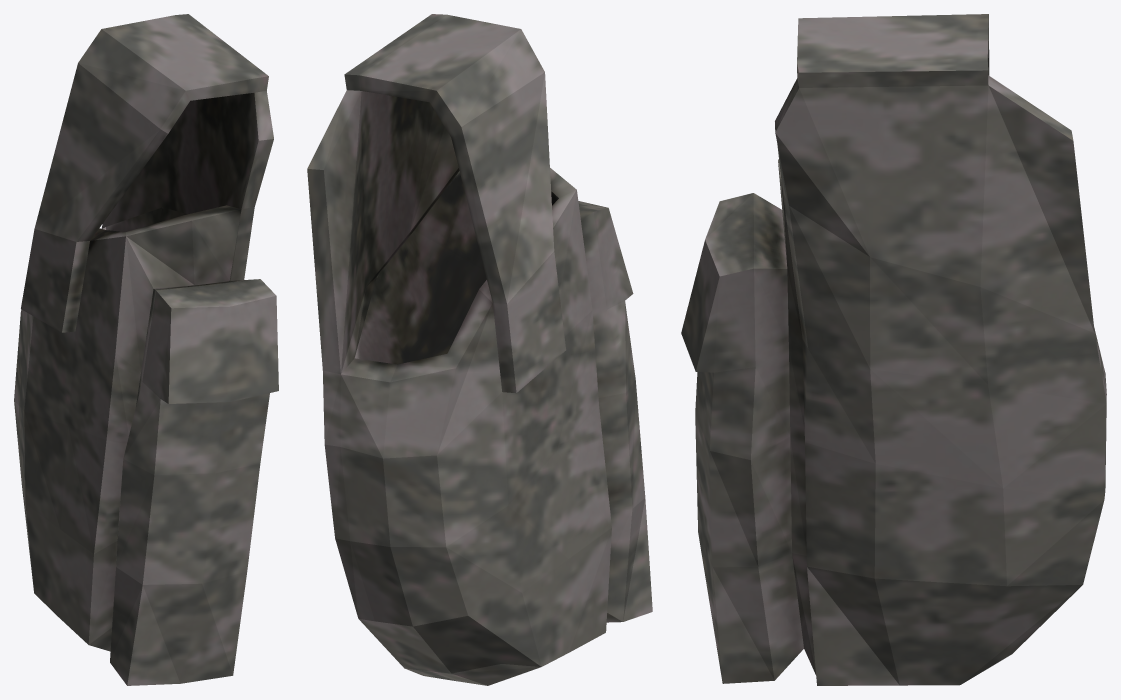
File: holster_combat_grey.obj
3 renders of one model, left to right at view 1: azimuth 30°, elevation 25°; view 2: azimuth 150°, elevation 25°; view 3: azimuth 270°, elevation 25°, orthographic. The views are drawn at different scales.
Visible parts, largest first — view 1: Default; view 2: Default; view 3: Default.
Part boxes in pixels (x1,y1,x2,y2): Default: [14, 14, 278, 685]; Default: [307, 14, 652, 685]; Default: [681, 14, 1106, 685].
Size of the model in its own units: 0.4716 by 1.46 by 0.851.
